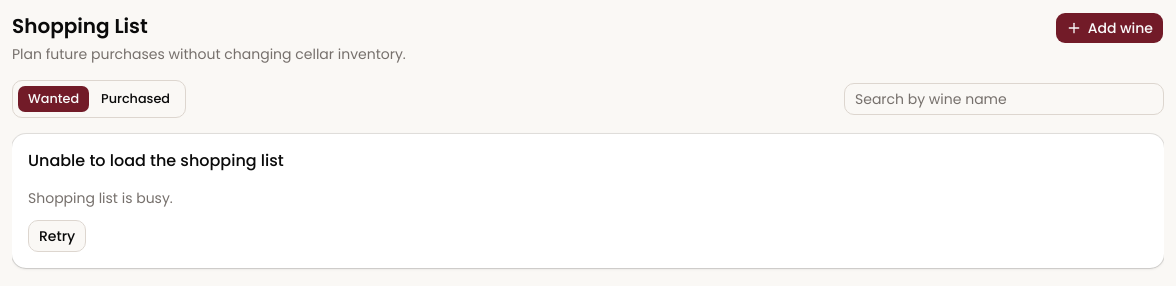
CellarShoppingList › shows explicit loading, error, and empty states
Expected: the message shows "Shopping list is busy.", [28,188,173,208]
Click the button "Retry": click(57, 236) [28,220,86,252]
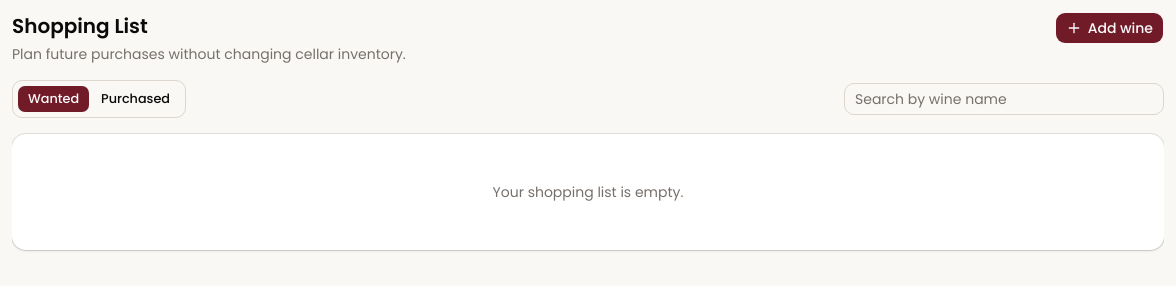
Expected: the text "Your shopping list is empty." is shown, [493,182,683,202]
